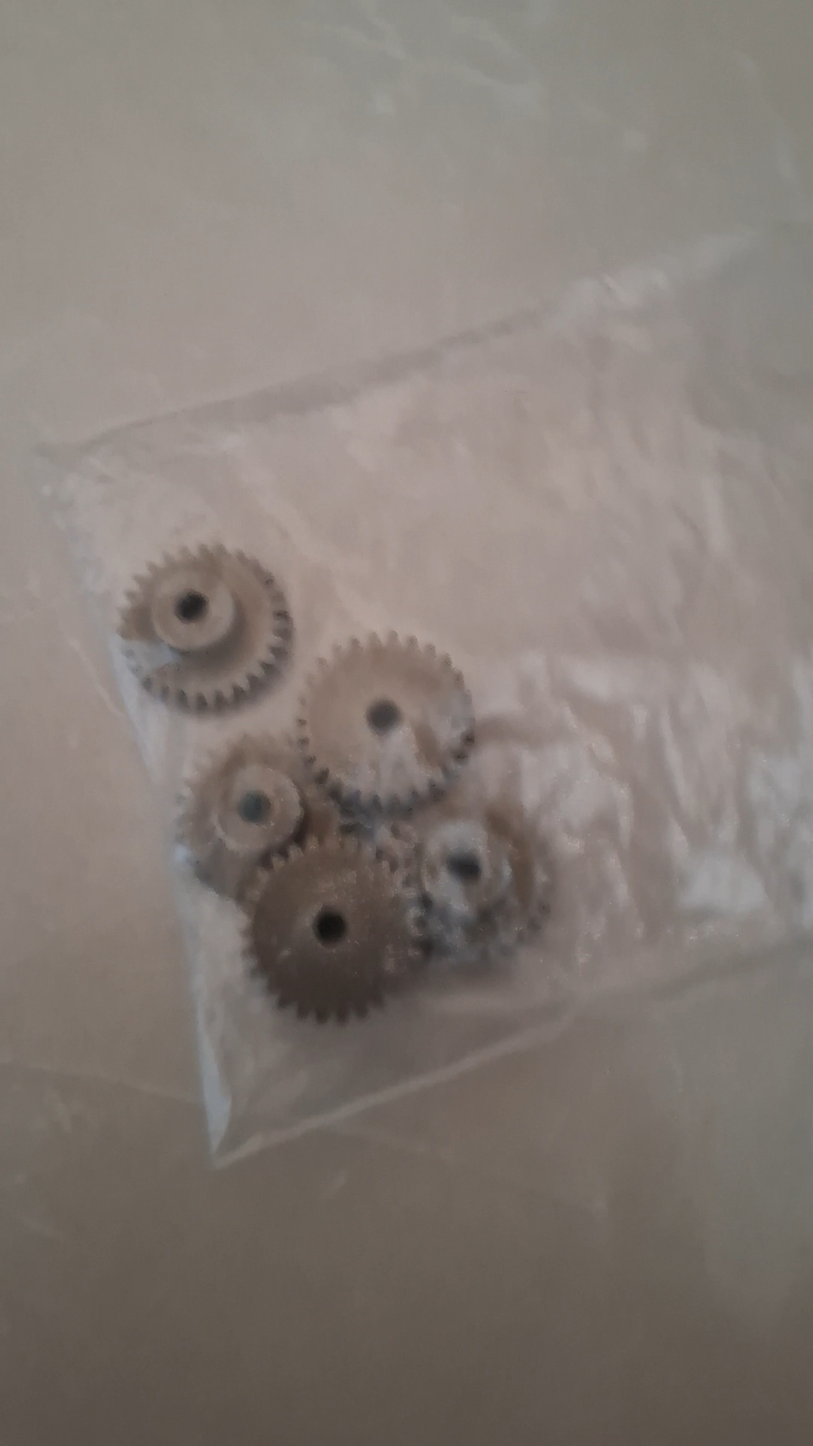spur gear: (246, 837, 420, 1021), (298, 635, 474, 815), (118, 546, 292, 709), (380, 801, 551, 964), (176, 737, 306, 900)
